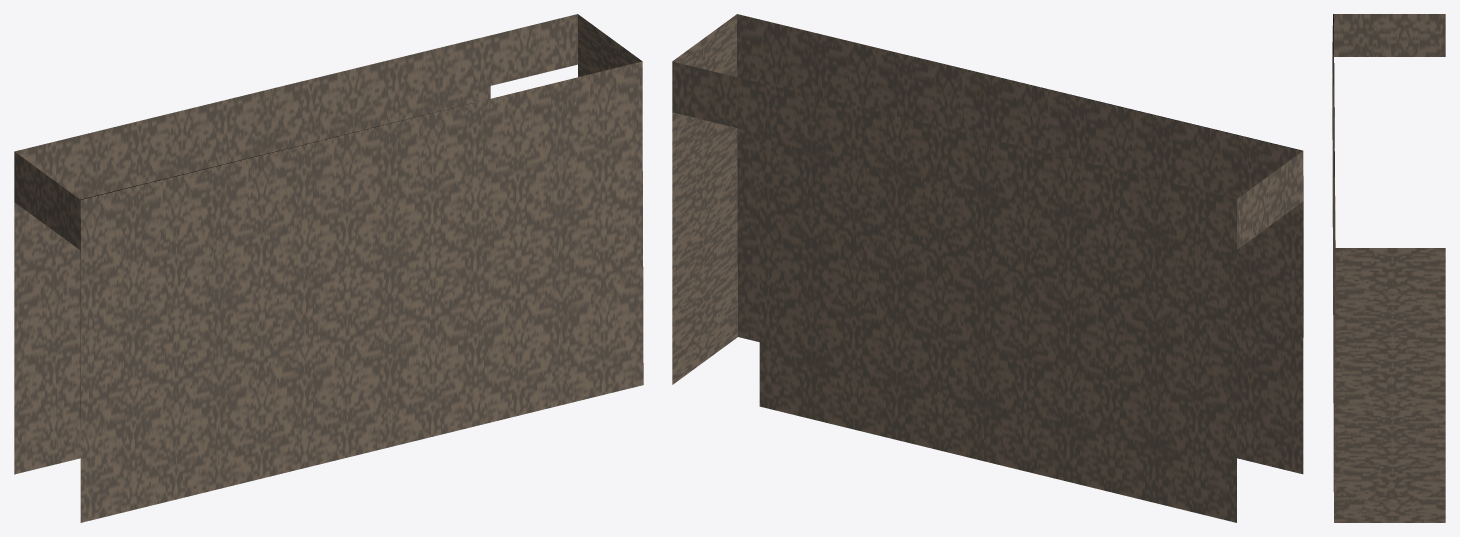
The model's file is Pisya_popa.fbx.
3 renders of one model, left to right at view 1: azimuth 30°, elevation 25°; view 2: azimuth 150°, elevation 25°; view 3: azimuth 270°, elevation 25°, orthographic. The views are drawn at different scales.
Visible parts, largest first — view 1: Plane.056; view 2: Plane.056; view 3: Plane.056.
Boxes of the visible parts, x1,y1,x2,y2 form: Plane.056: (14, 14, 643, 522); Plane.056: (672, 14, 1303, 522); Plane.056: (1332, 14, 1445, 522).
Bounding box in the file's own units: 627 × 344 × 129.
